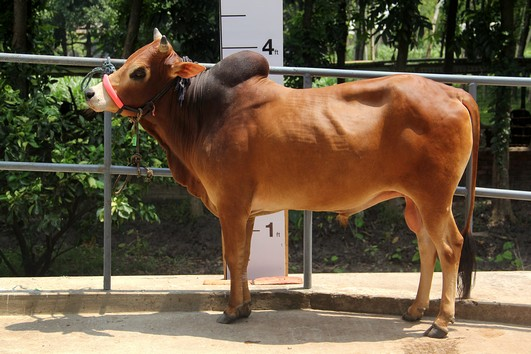cow: (81, 22, 484, 339)
